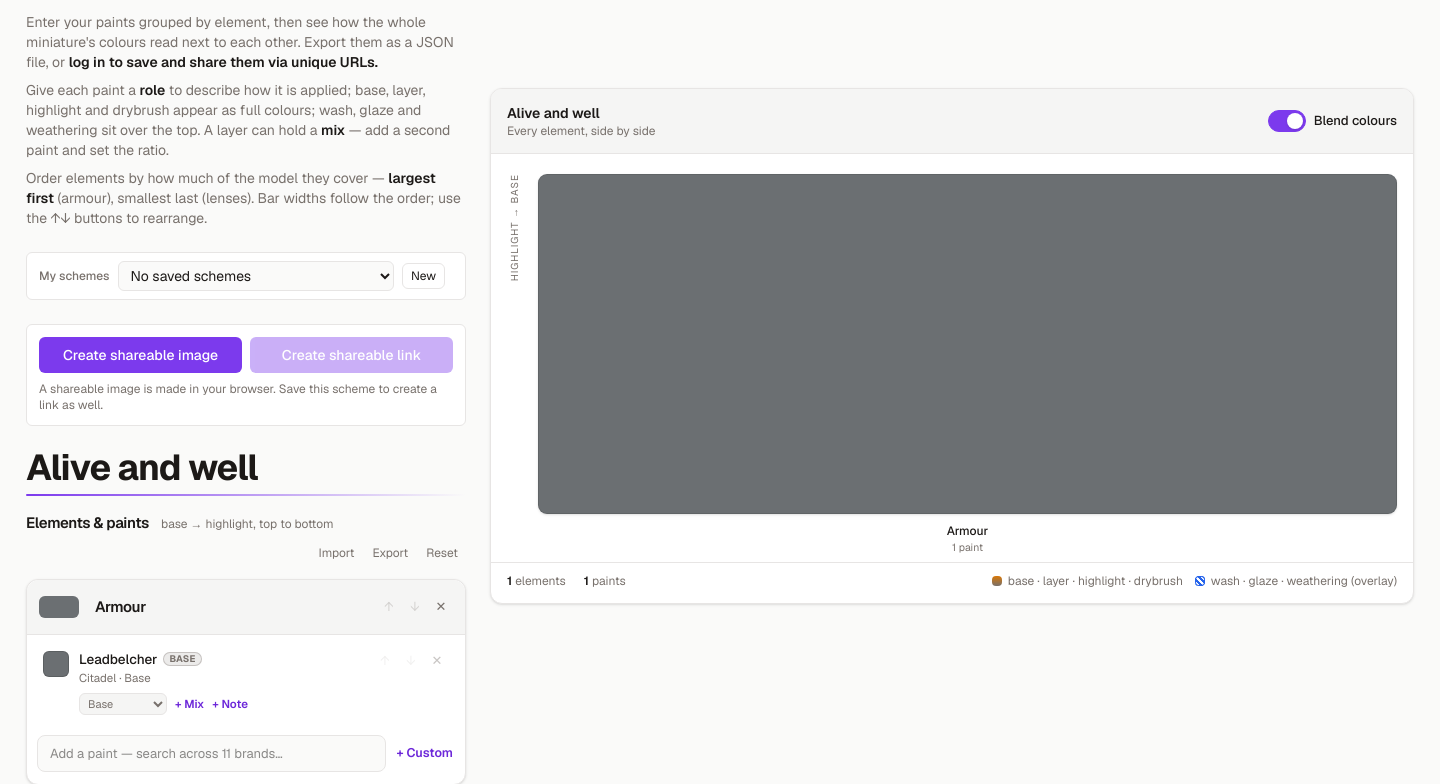
SchemeVisualiser multi-device reconciliation › does not claim a deletion when the session has lapsed
Step 1. Replace the text in the field named "Scheme name" with "Alive and well!" → (246, 468), box x1=26 y1=446 x2=466 y2=490
Wait 2000 ms
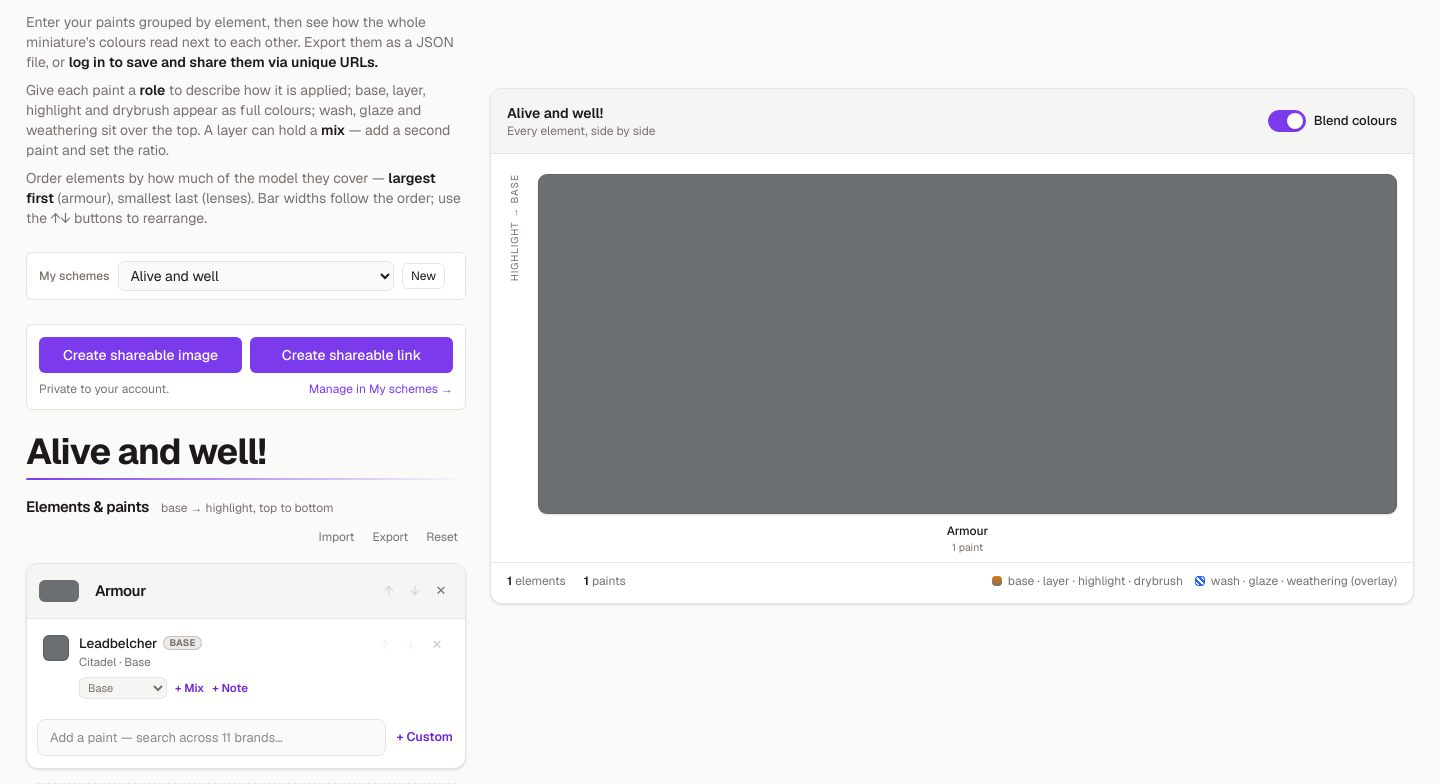
Now the heading "Alive and well!" is shown, box x1=507 y1=104 x2=603 y2=122
